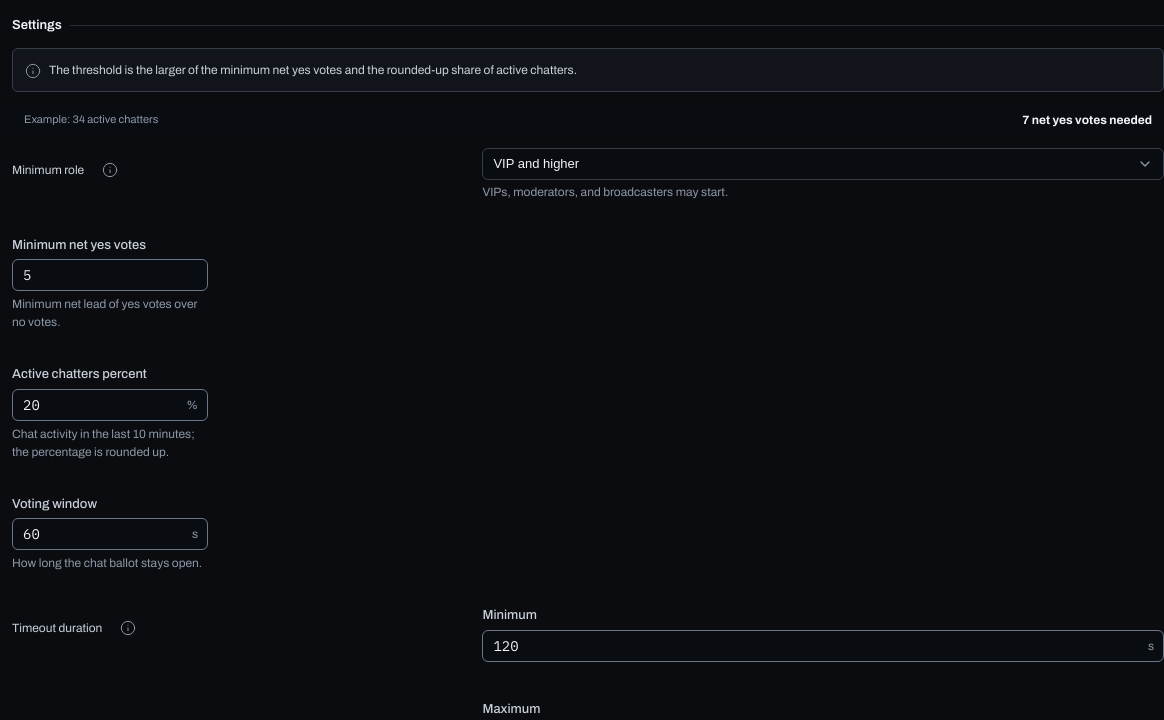
it: votekick starter role setting › updates the worked threshold example beside its rule note from unsaved settings values
Check: the text "7 net yes votes needed" is shown, box [1022, 112, 1152, 126]
Replace the text in the number field labelled "Minimum net yes votes" with "8" at (110, 275), box [12, 259, 208, 291]
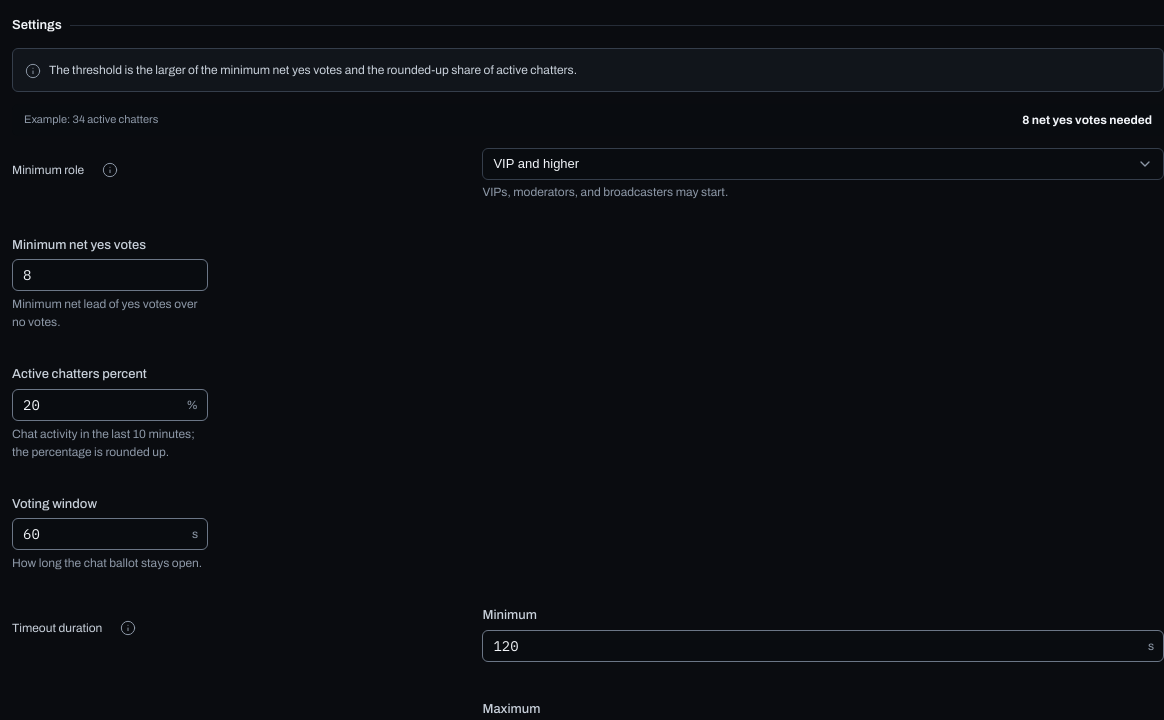
Check: the text "8 net yes votes needed" is shown, box [1022, 112, 1152, 126]
Replace the text in the number field labelled "Active chatters percent" with "30" at (110, 404), box [12, 388, 208, 420]
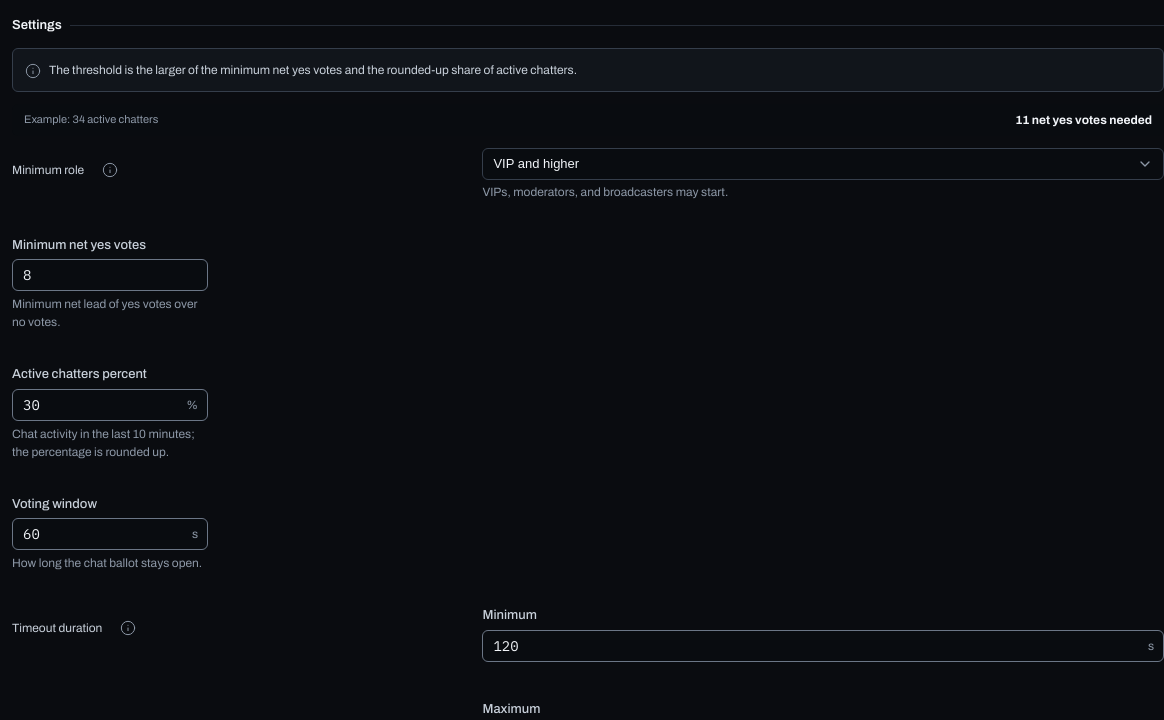
Check: the text "11 net yes votes needed" is shown, box [1015, 112, 1152, 126]
